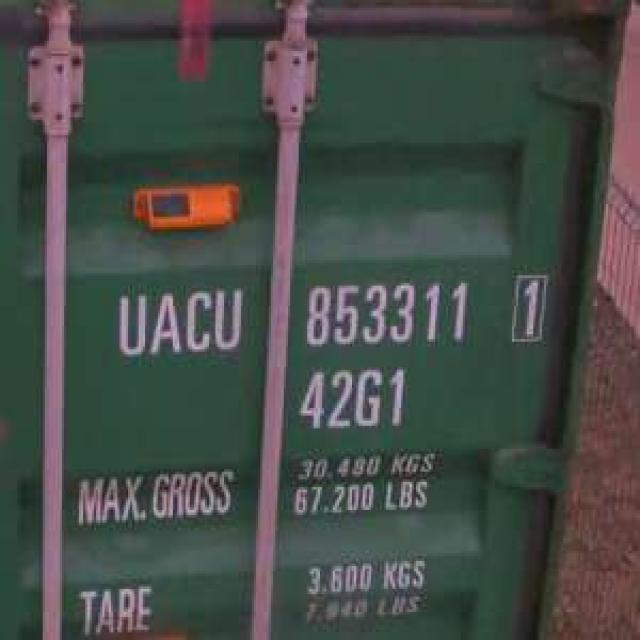dv: (504, 265, 550, 347)
owner: (109, 278, 247, 365)
serial: (296, 273, 474, 352)
size: (292, 362, 410, 436)
